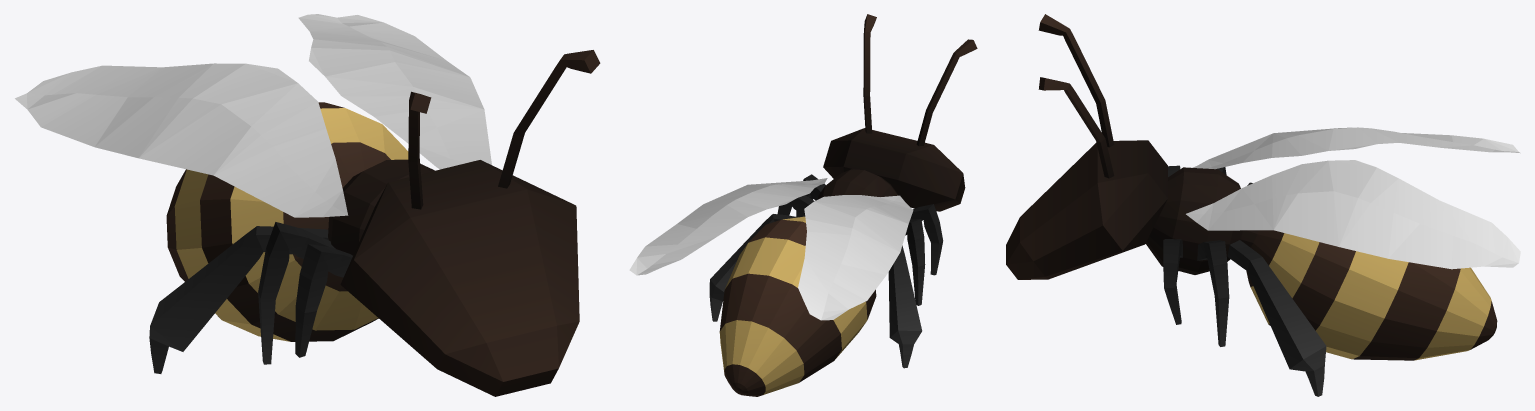
Rendered from bee.glb.
The picture shows the model from 3 angles, left to right: view 1: azimuth 30°, elevation 25°; view 2: azimuth 150°, elevation 25°; view 3: azimuth 270°, elevation 25°; orthographic projection. The views are drawn at different scales.
Parts seen in each view (by area): view 1: bee_merged; view 2: bee_merged; view 3: bee_merged.
Part boxes in pixels (left/top/right/bottom): bee_merged: left=15, top=14, right=600, bottom=396; bee_merged: left=629, top=14, right=977, bottom=396; bee_merged: left=1006, top=14, right=1520, bottom=396.
Bounding box in the file's own units: 1.21 × 1.3 × 1.97.
1 material, 1 textured.
